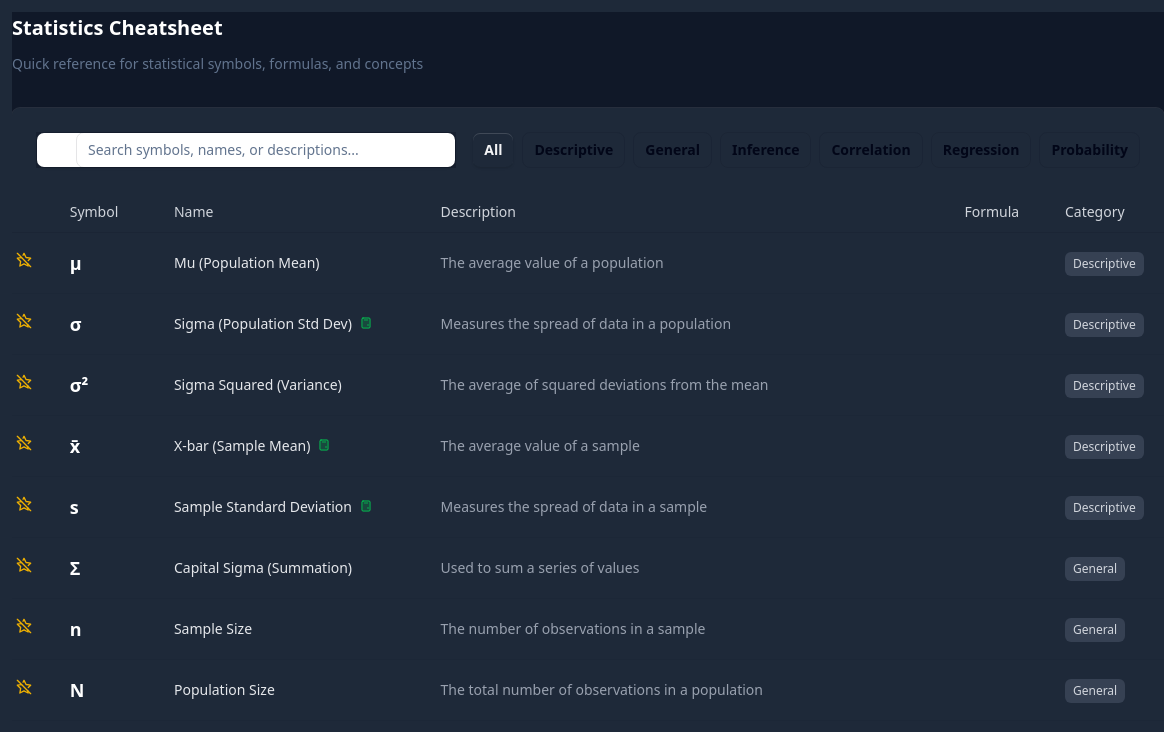
Test: CheatsheetPage (unit) › should filter by category
Click the button "Inference". click: point(766, 150)
box: [720,132,811,168]
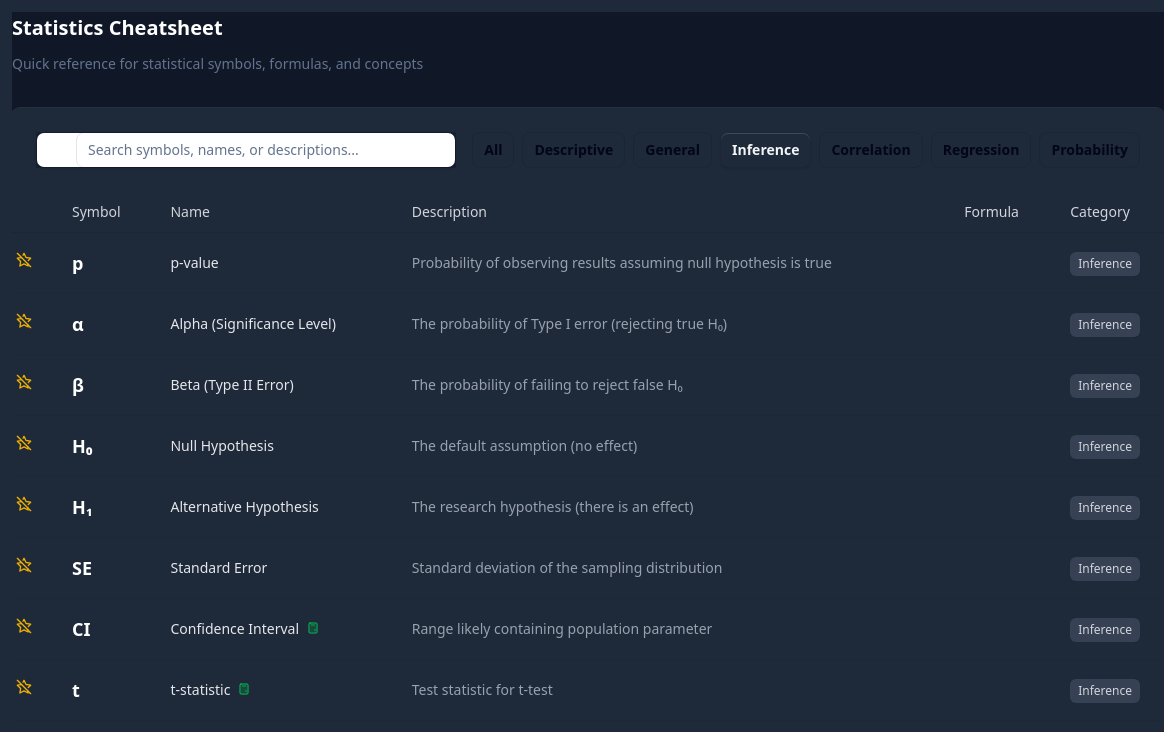
Now the text "p-value" is shown, box [154,232,396,294]
